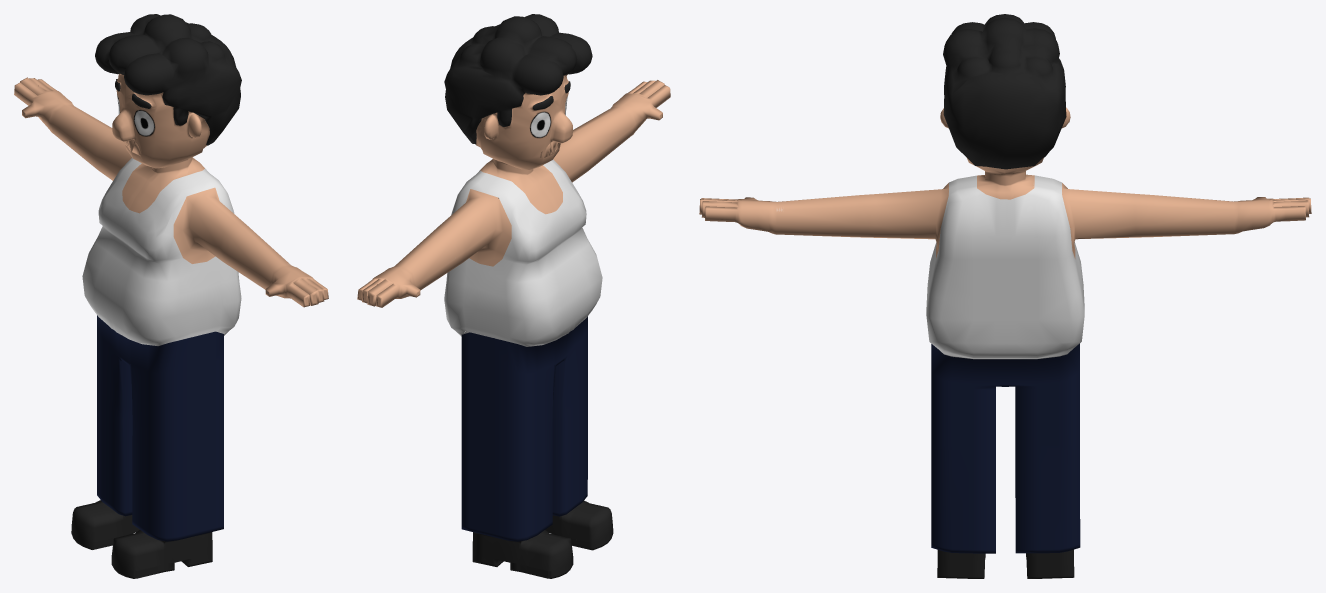
Rendered from tatay.fbx.
3 renders of one model, left to right at view 1: azimuth 30°, elevation 25°; view 2: azimuth 150°, elevation 25°; view 3: azimuth 270°, elevation 25°, orthographic. The views are drawn at different scales.
Parts seen in each view (by area): view 1: Cube.005; view 2: Cube.005; view 3: Cube.005.
Boxes of the visible parts, x1,y1,x2,y2 form: Cube.005: (14, 14, 328, 578); Cube.005: (357, 14, 670, 578); Cube.005: (699, 14, 1311, 578).
Bounding box in the file's own units: 67.26 × 259 × 260.
Materials: 1 (1 with a texture image).
